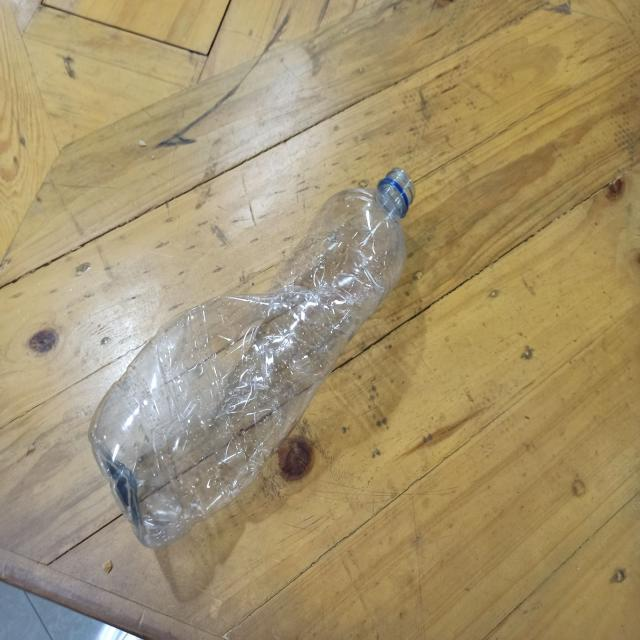BotolPlastik: (87, 166, 416, 548)
